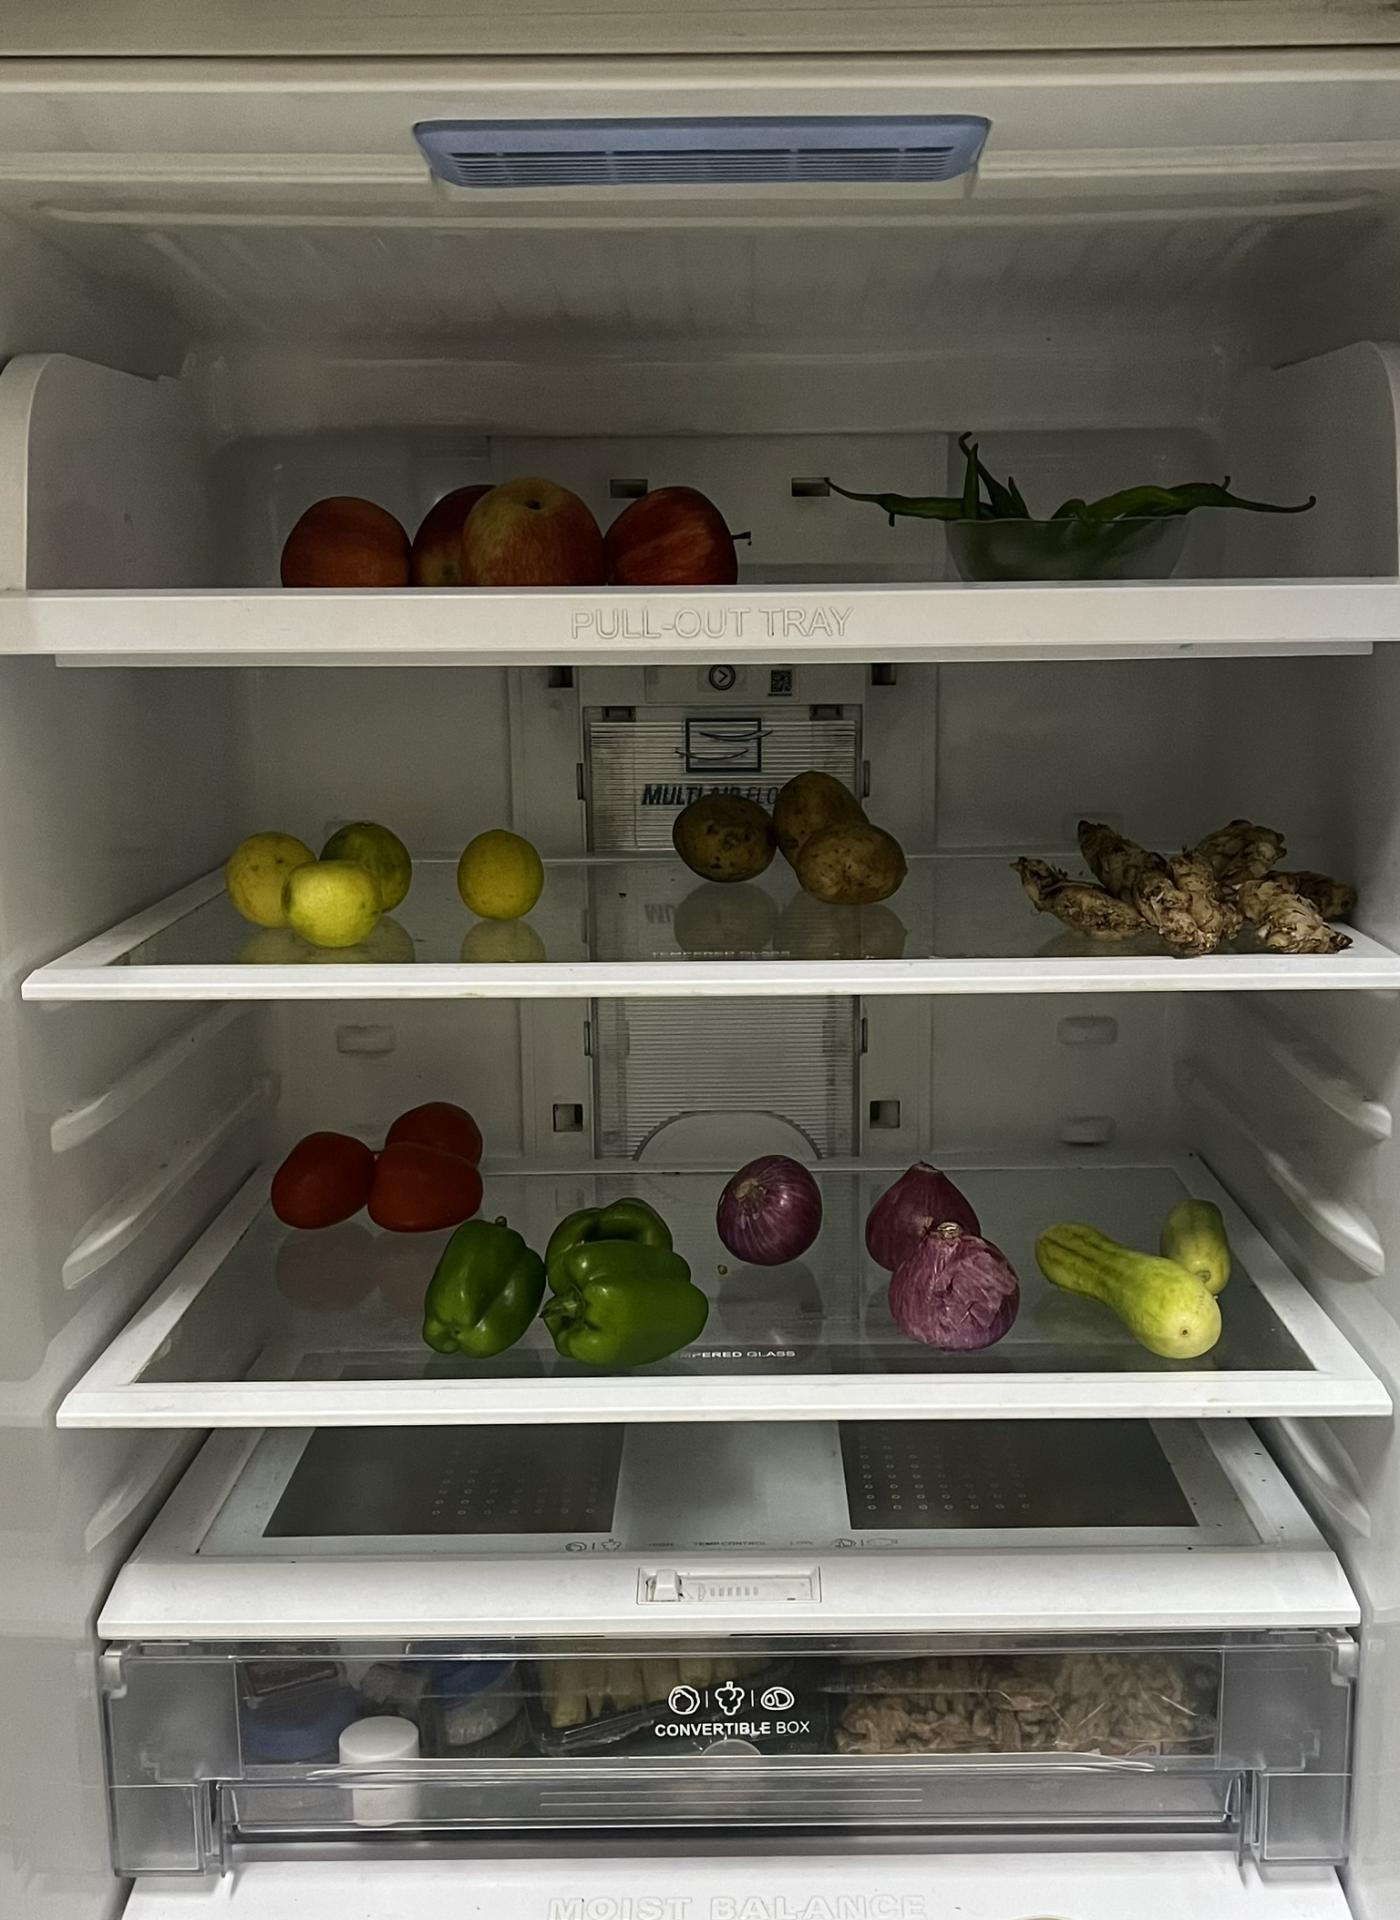apple: (279, 483, 747, 593)
capsicum: (425, 1200, 708, 1365)
chillies: (832, 429, 1324, 583)
cucumber: (1041, 1207, 1237, 1361)
ginger: (1024, 812, 1352, 956)
lemon: (225, 811, 416, 938), (452, 824, 549, 920)
onion: (865, 1164, 1018, 1349), (716, 1145, 823, 1264)
potato: (668, 774, 909, 903)
tomato: (276, 1105, 489, 1236)
